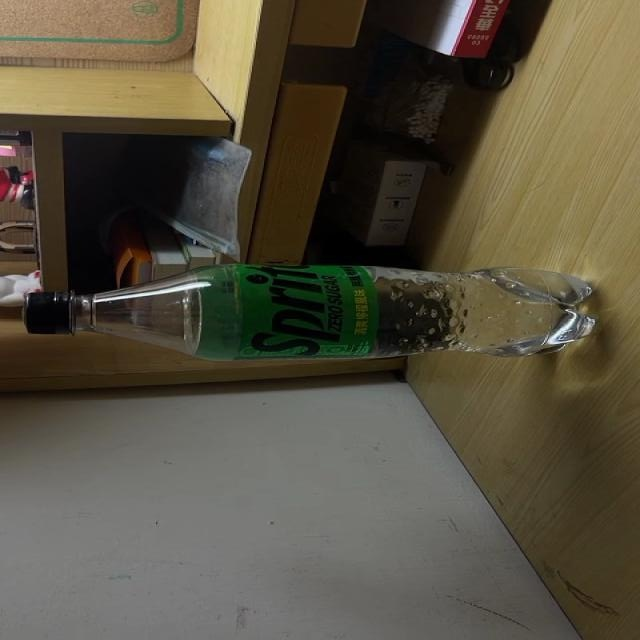Sprite: (22, 262, 600, 364)
